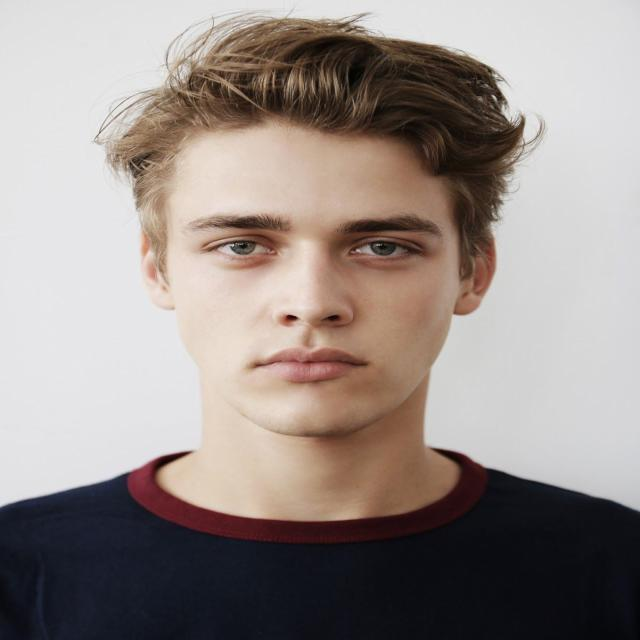earlobe: (452, 292, 479, 316), (151, 284, 174, 310)
eye: (205, 237, 278, 261), (345, 237, 419, 260)
nose: (273, 315, 355, 346)
wholeear: (452, 229, 497, 315), (138, 225, 174, 310)
